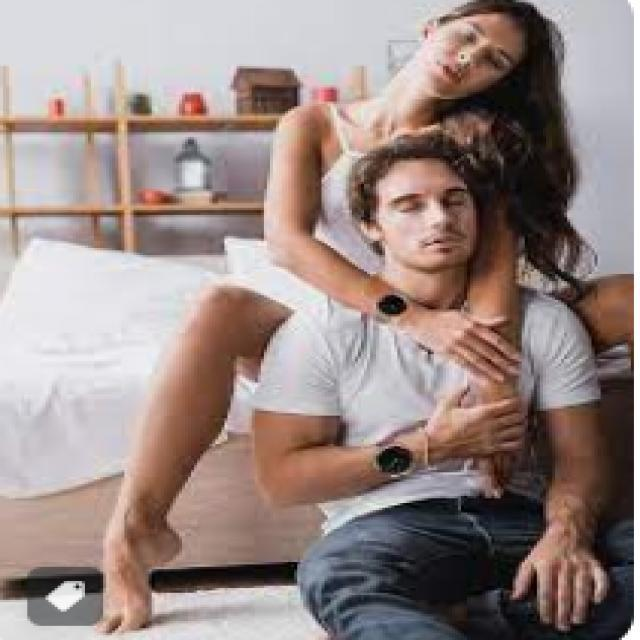Watch: (364, 286, 416, 326), (372, 434, 414, 482)
